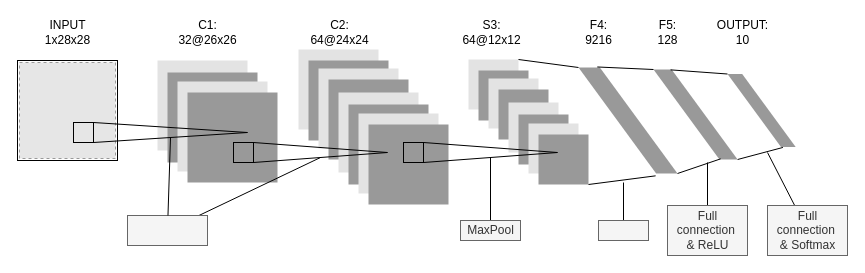
Some shapes in this 865 by 273 pixel diagram are drawn without their labels. Grey dashed boxes stand in for pictures. The centre of each missing label's shape, as x and y in pixels:
"Convolutions & ReLU" goes at [167,230].
"Flatten" goes at [623,230].
